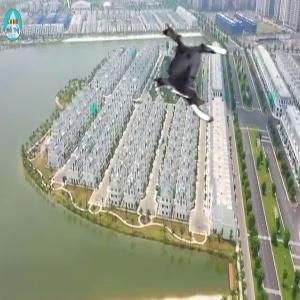drone: (141, 25, 238, 122)
